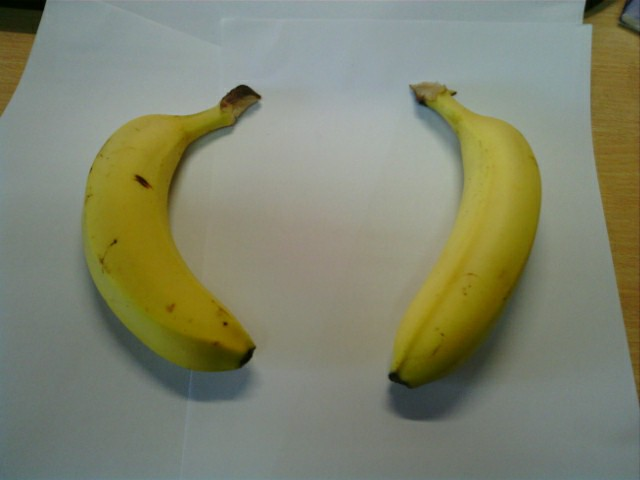fresh_banana: (385, 77, 543, 391)
normal_banana: (81, 88, 259, 373)
